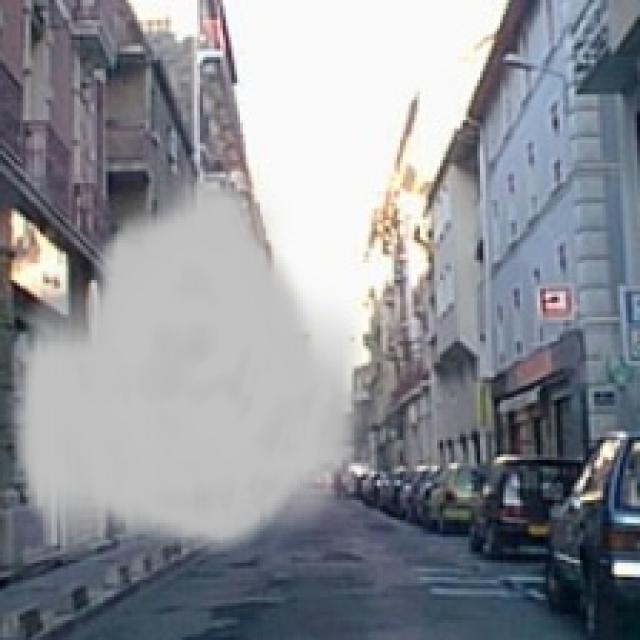smoke: (6, 166, 374, 560)
